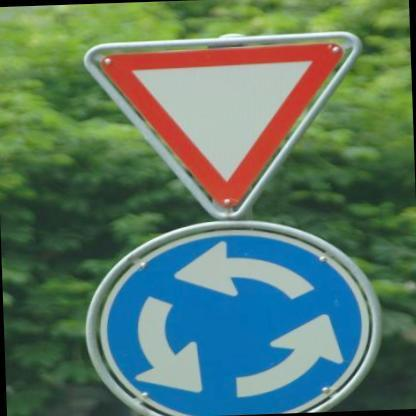road_sign: (85, 221, 382, 416), (82, 31, 364, 219)
